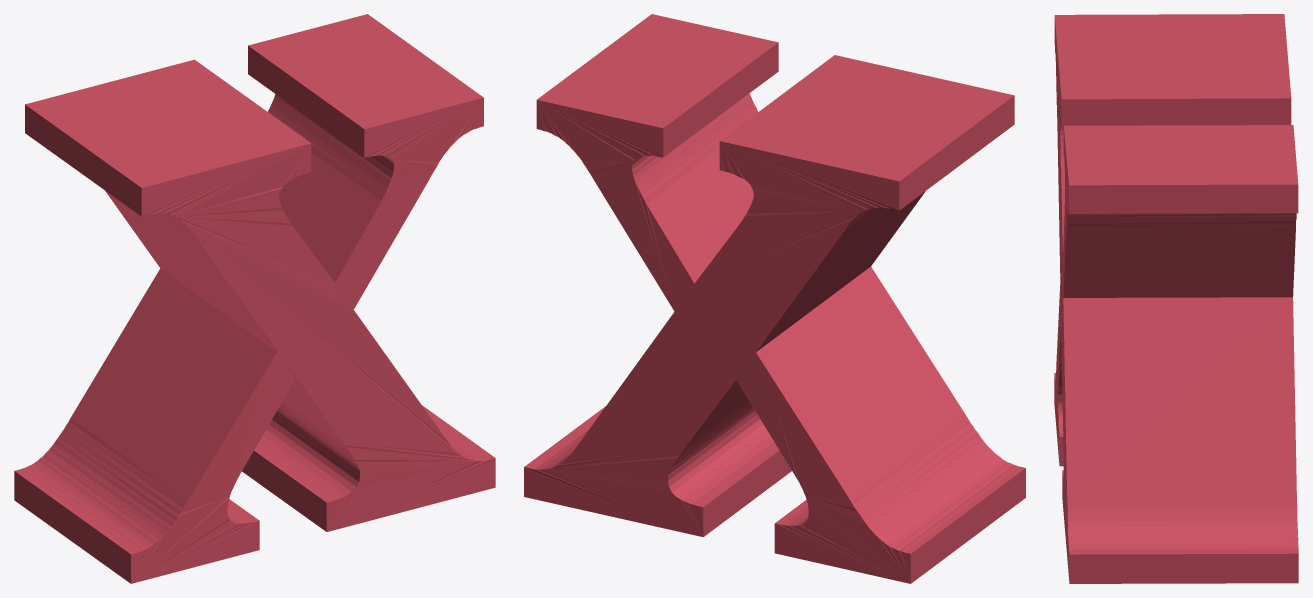
File: XObject.glb
3 renders of one model, left to right at view 1: azimuth 30°, elevation 25°; view 2: azimuth 150°, elevation 25°; view 3: azimuth 270°, elevation 25°, orthographic.
Visible parts, largest first — view 1: Mesh_Mesh_head_geo.001_lambert2SG.001; view 2: Mesh_Mesh_head_geo.001_lambert2SG.001; view 3: Mesh_Mesh_head_geo.001_lambert2SG.001.
Boxes of the visible parts, x1,y1,x2,y2 form: Mesh_Mesh_head_geo.001_lambert2SG.001: (14,14,495,583); Mesh_Mesh_head_geo.001_lambert2SG.001: (524,14,1025,583); Mesh_Mesh_head_geo.001_lambert2SG.001: (1054,14,1298,583).
Size of the model in its own units: 0.996 by 1 by 0.564.
